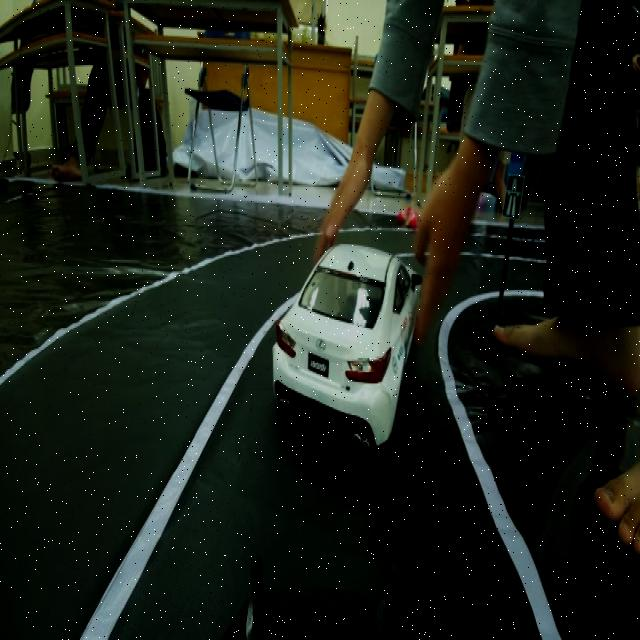car: (245, 202, 444, 487)
